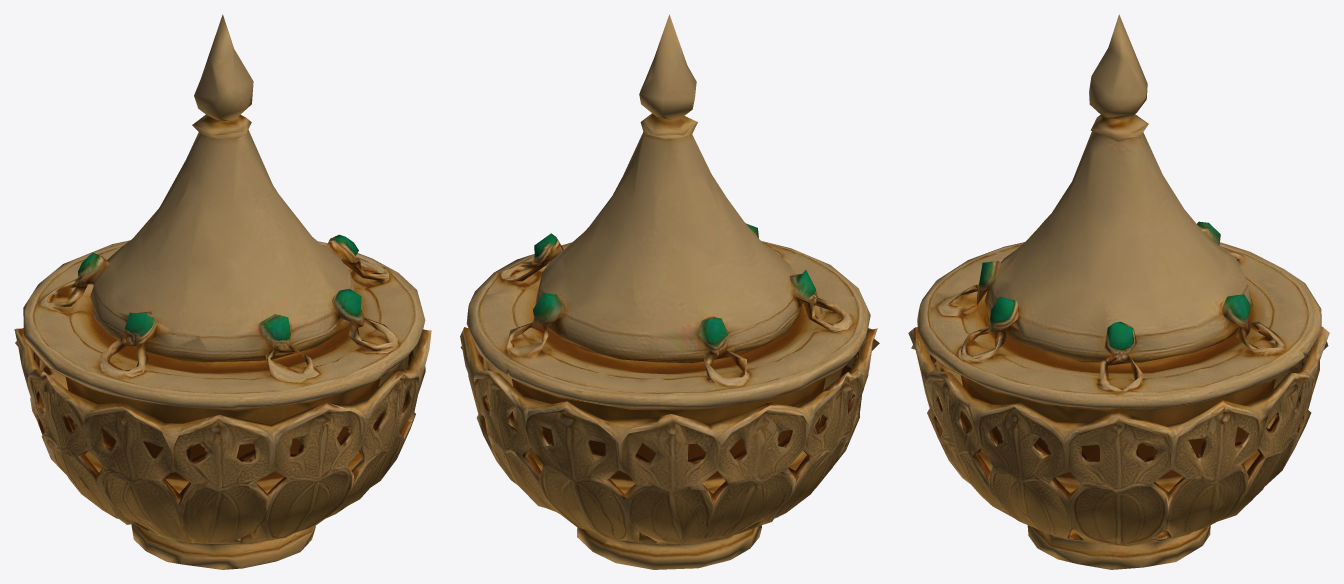
Rendered from et_censer.glb.
3 views of the same model, side by side, from view 1: azimuth 30°, elevation 25°; view 2: azimuth 150°, elevation 25°; view 3: azimuth 270°, elevation 25° (orthographic).
Parts seen in each view (by area): view 1: tripo_node_311acf94-457e-4bfb-b6ef-fccb1b6fdc94; view 2: tripo_node_311acf94-457e-4bfb-b6ef-fccb1b6fdc94; view 3: tripo_node_311acf94-457e-4bfb-b6ef-fccb1b6fdc94.
Part boxes in pixels (x1,y1,x2,y2): tripo_node_311acf94-457e-4bfb-b6ef-fccb1b6fdc94: (14,14,431,569); tripo_node_311acf94-457e-4bfb-b6ef-fccb1b6fdc94: (460,14,879,569); tripo_node_311acf94-457e-4bfb-b6ef-fccb1b6fdc94: (908,14,1329,569).
Size of the model in its own units: 0.1471 by 0.2 by 0.1478.
1 material, 1 textured.
